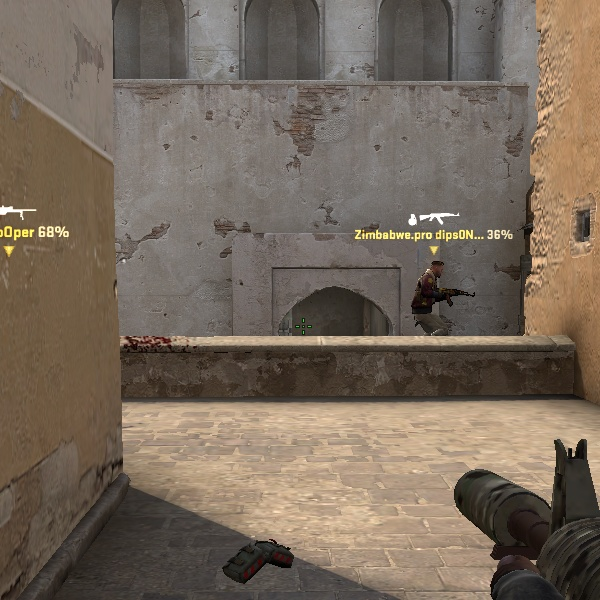t_body: (409, 260, 467, 334)
t_head: (429, 259, 446, 279)
